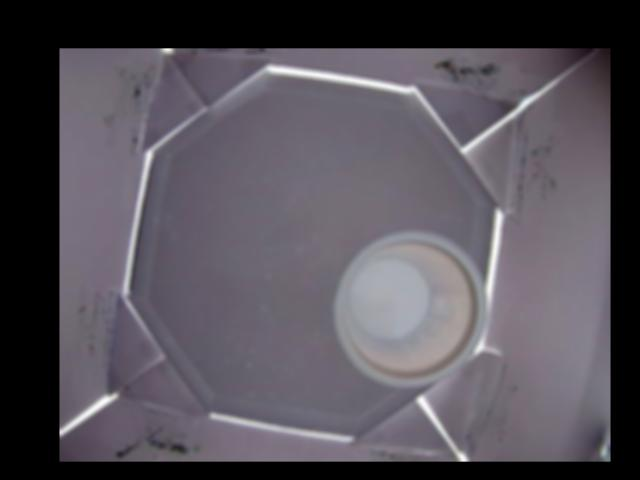Cup: (331, 230, 488, 386)
